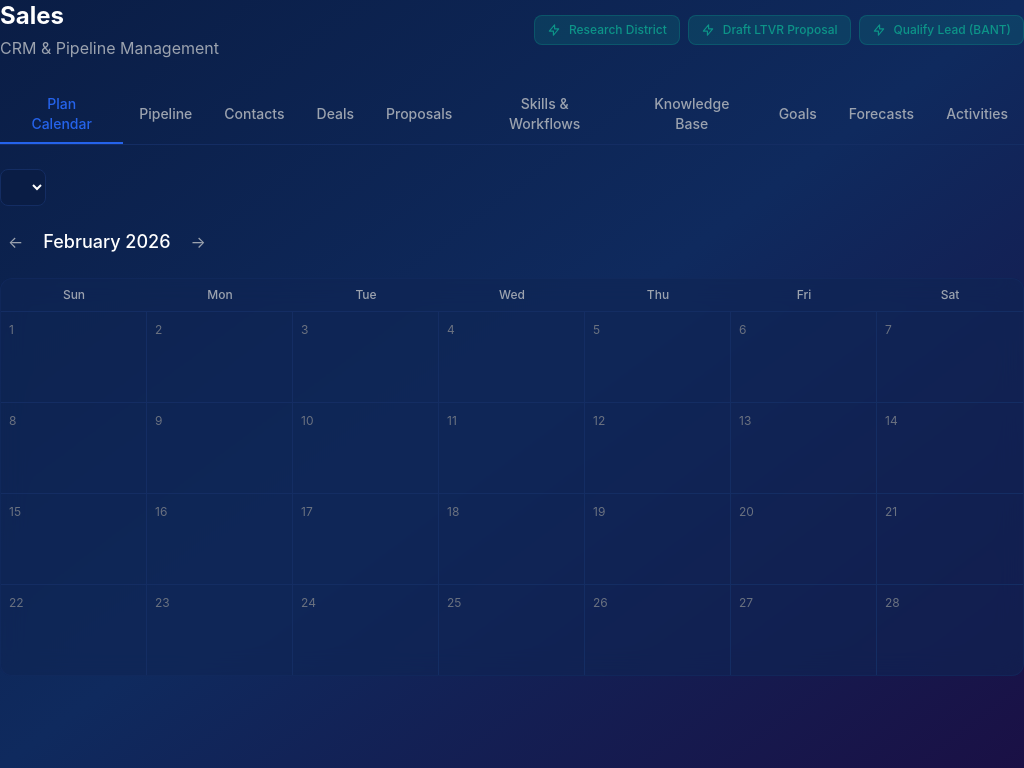
Sales › switches to Contacts tab
Click the button "Contacts" at [254, 114], box [208, 84, 300, 144]
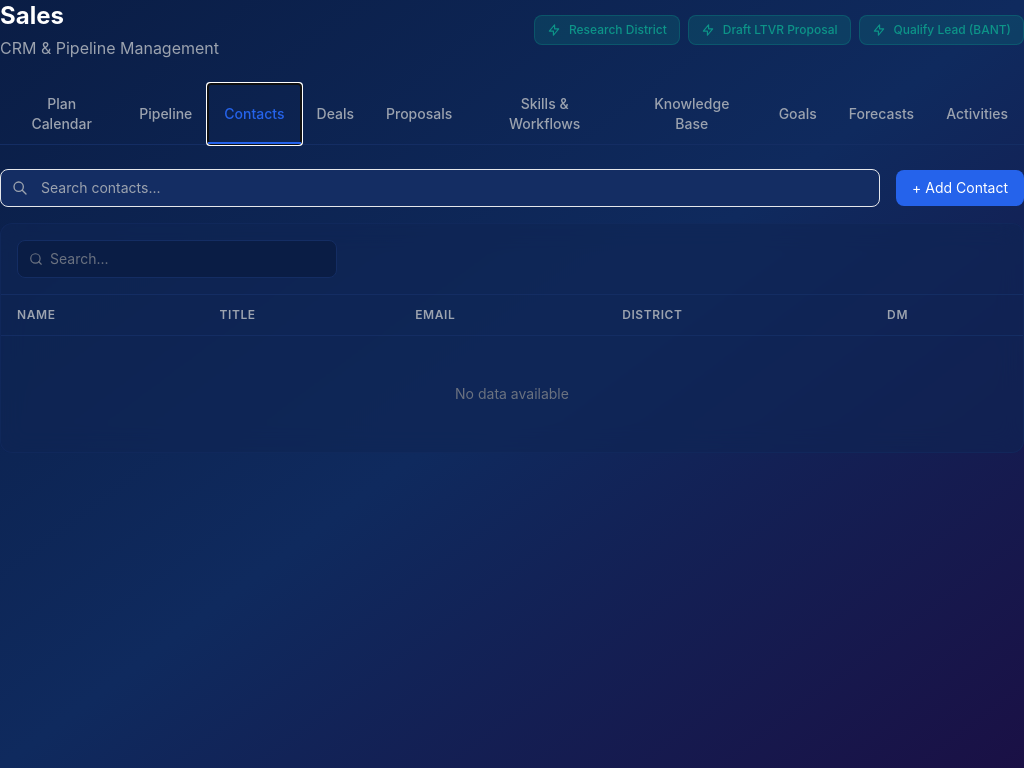
Check: the button "+ Add Contact" is shown, box [896, 170, 1023, 206]
